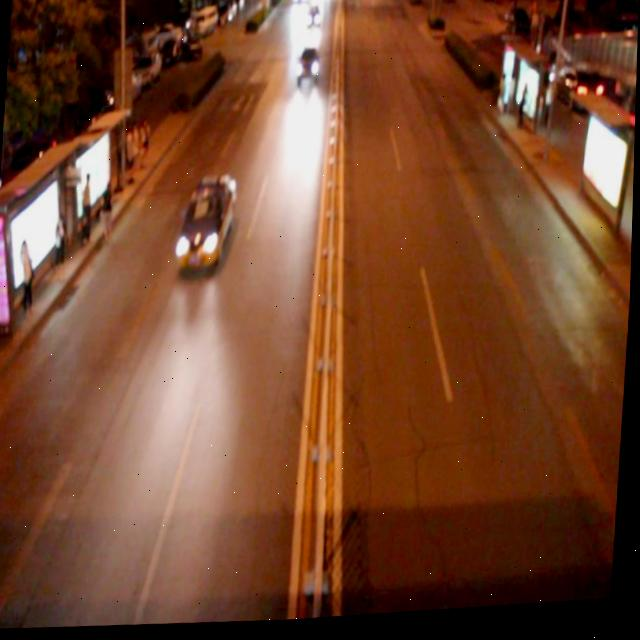car: (175, 174, 239, 271), (294, 43, 321, 83)
